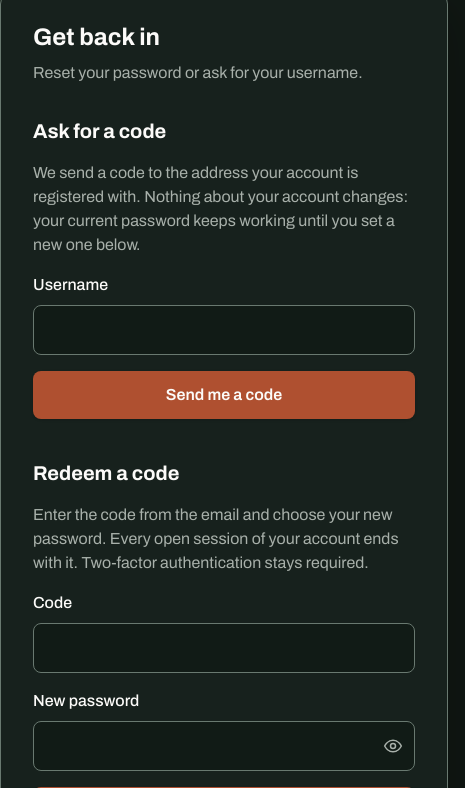
Scenario: AccountRecoveryView › given a code the instance refuses, when it is redeemed, then the refusal names the code and not the password
In the field with test id "recovery-code": (224,648) [33,623,415,673], type "ABCD-EFGH"
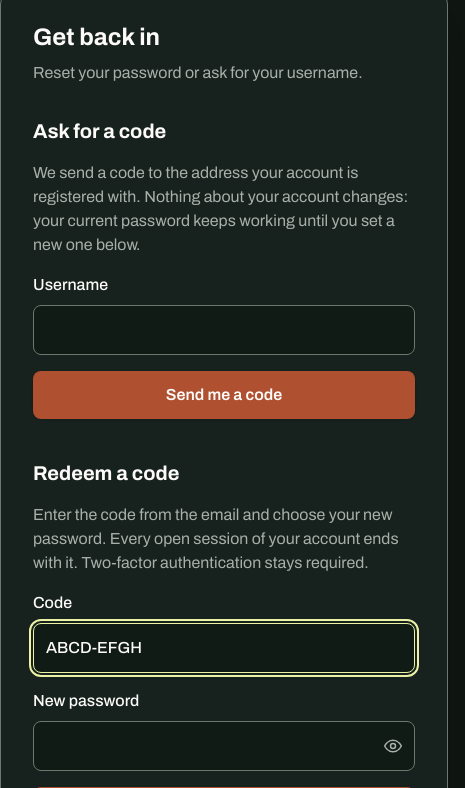
In the password field with test id "recovery-new-password": (224,746) [33,721,415,771], type "clay-court-evening"
(page scrolled)
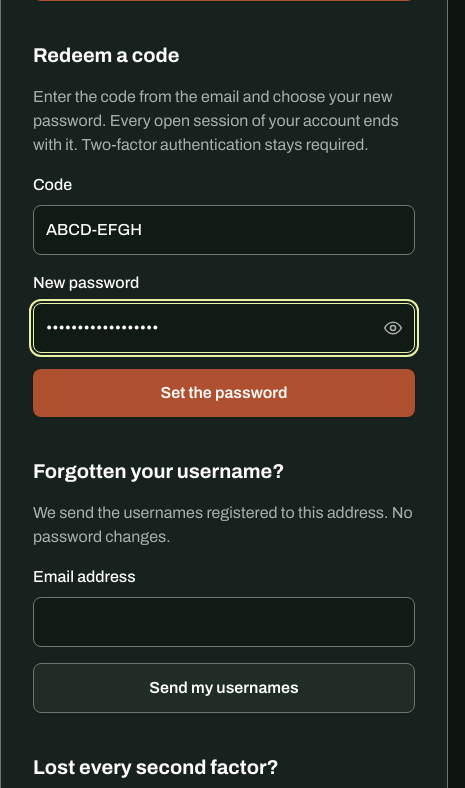
Click the button with test id "recovery-redeem-submit": (224,393) [33,369,415,417]
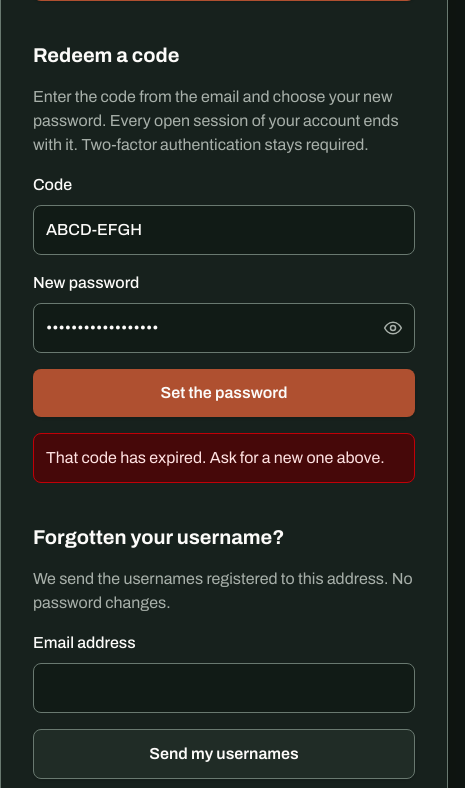
Result: the message reads "That code has expired. Ask for a new one above." at [46,449,385,466]
